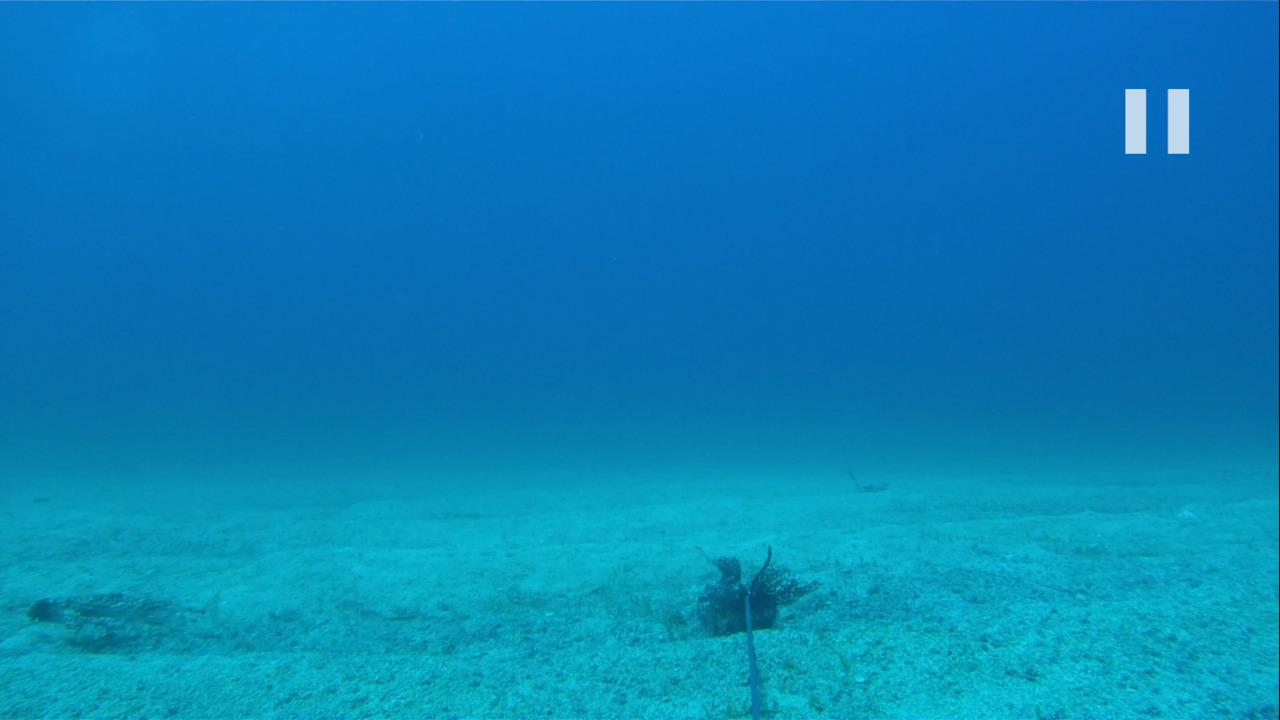dactylopterus: (21, 582, 236, 651)
